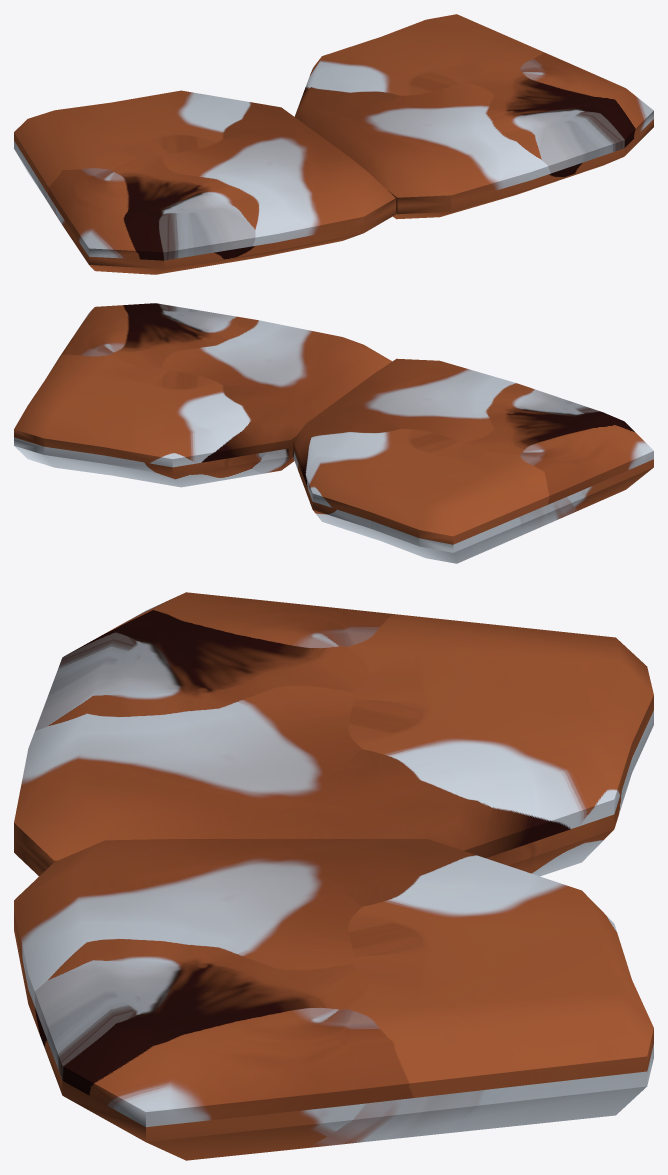
File: MDL_Tile_12Slots.fbx
The picture shows the model from 3 angles, top to bottom: view 1: azimuth 30°, elevation 25°; view 2: azimuth 150°, elevation 25°; view 3: azimuth 270°, elevation 25°; orthographic projection. The views are drawn at different scales.
Parts seen in each view (by area): view 1: Right_Wing_Tile, Left_Wing_Tile; view 2: Right_Wing_Tile, Left_Wing_Tile; view 3: Left_Wing_Tile, Right_Wing_Tile.
Boxes of the visible parts, bbox=[...] form: Right_Wing_Tile: bbox=[14, 90, 395, 274]; Left_Wing_Tile: bbox=[294, 14, 653, 219]; Right_Wing_Tile: bbox=[293, 358, 653, 563]; Left_Wing_Tile: bbox=[14, 303, 391, 487]; Left_Wing_Tile: bbox=[14, 839, 653, 1160]; Right_Wing_Tile: bbox=[14, 592, 653, 876].
Bounding box in the file's own units: 247 × 22.23 × 133.
